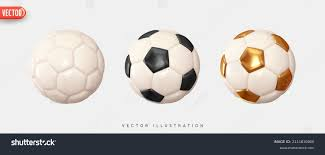football ball: (29, 27, 109, 106), (123, 29, 203, 105), (218, 29, 300, 103)
